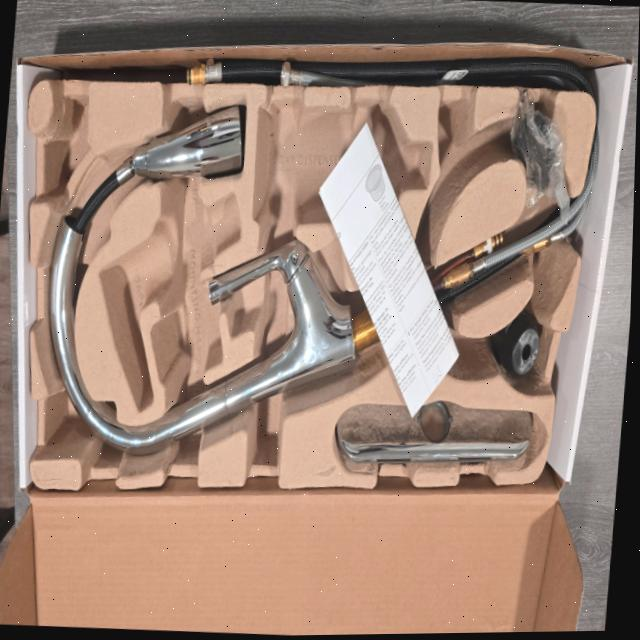1o: (47, 105, 591, 457)
2m: (100, 191, 239, 414)
3m: (253, 104, 432, 226)
4o: (336, 399, 533, 462)
5: (487, 307, 538, 376)
6m: (423, 99, 491, 220)
7: (507, 86, 568, 225)
8: (318, 121, 459, 419)
